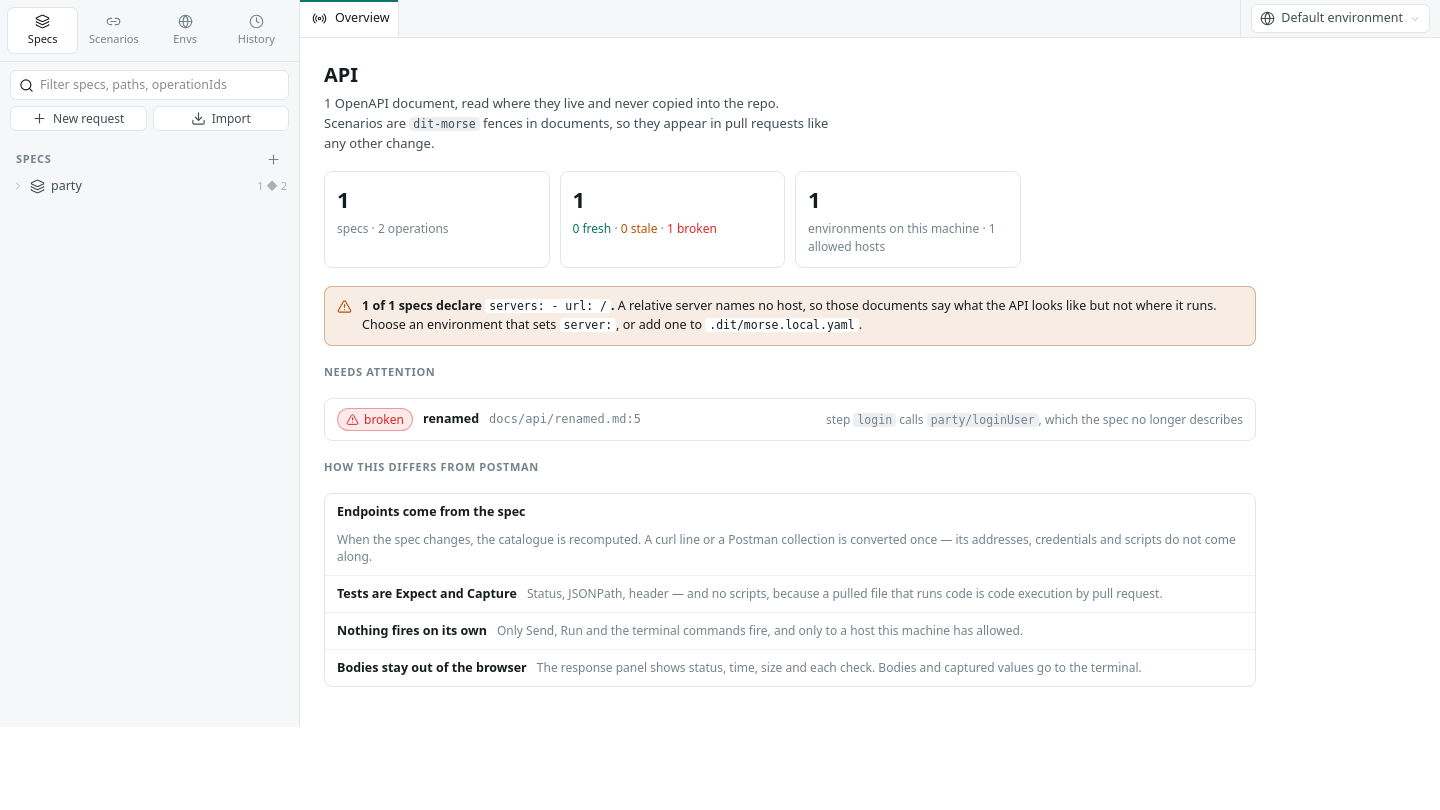
Test: the Morse workbench › opens an operation as a draft pre-filled from the spec
Step 1. Click the button with class "mw-tr" → coordinates (66, 186), box [6, 174, 293, 200]
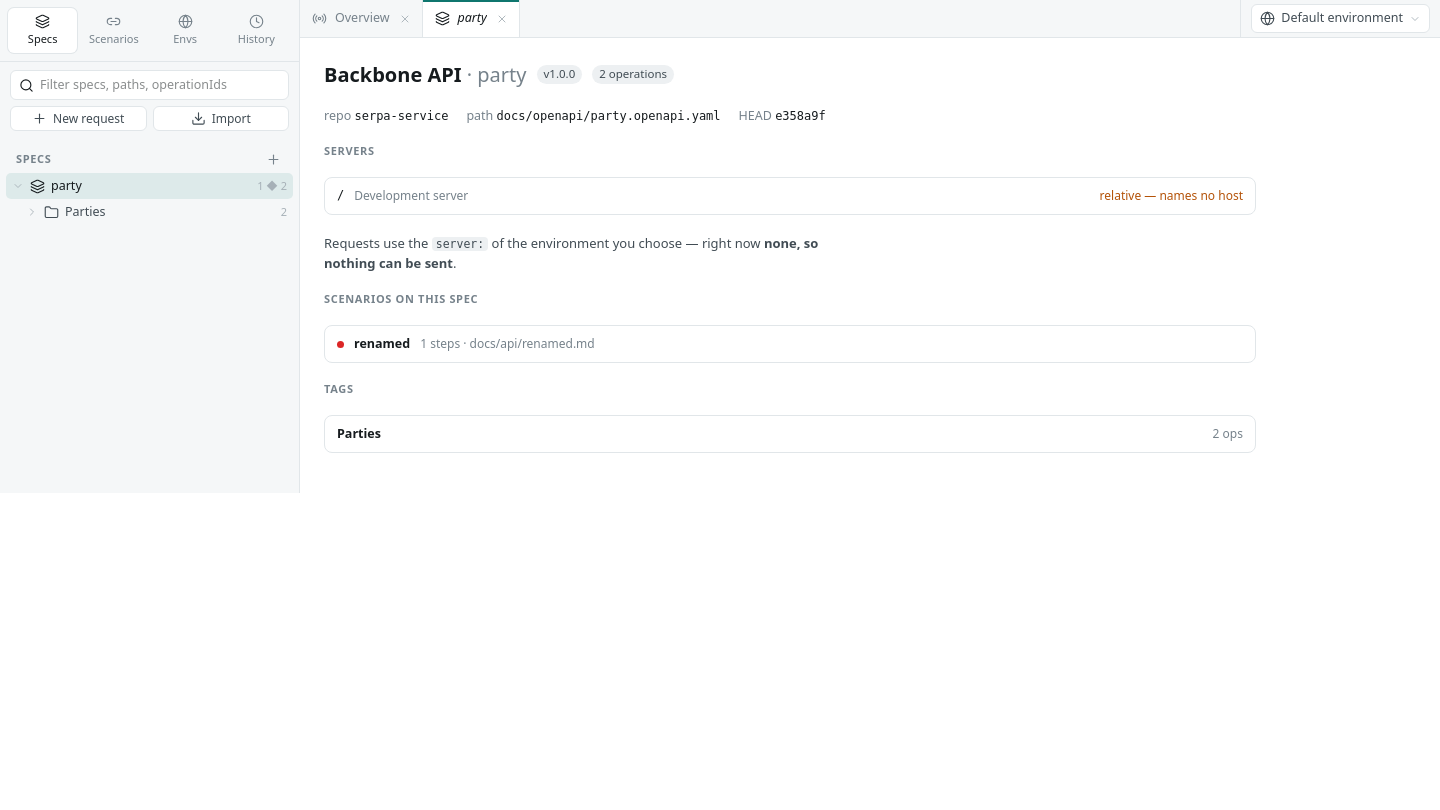
Result: the button with class "mw-tr" showing "Parties 2" is shown
Step 2. Click the button with class "mw-tr" showing "Parties 2" → coordinates (85, 212), box [6, 200, 293, 226]
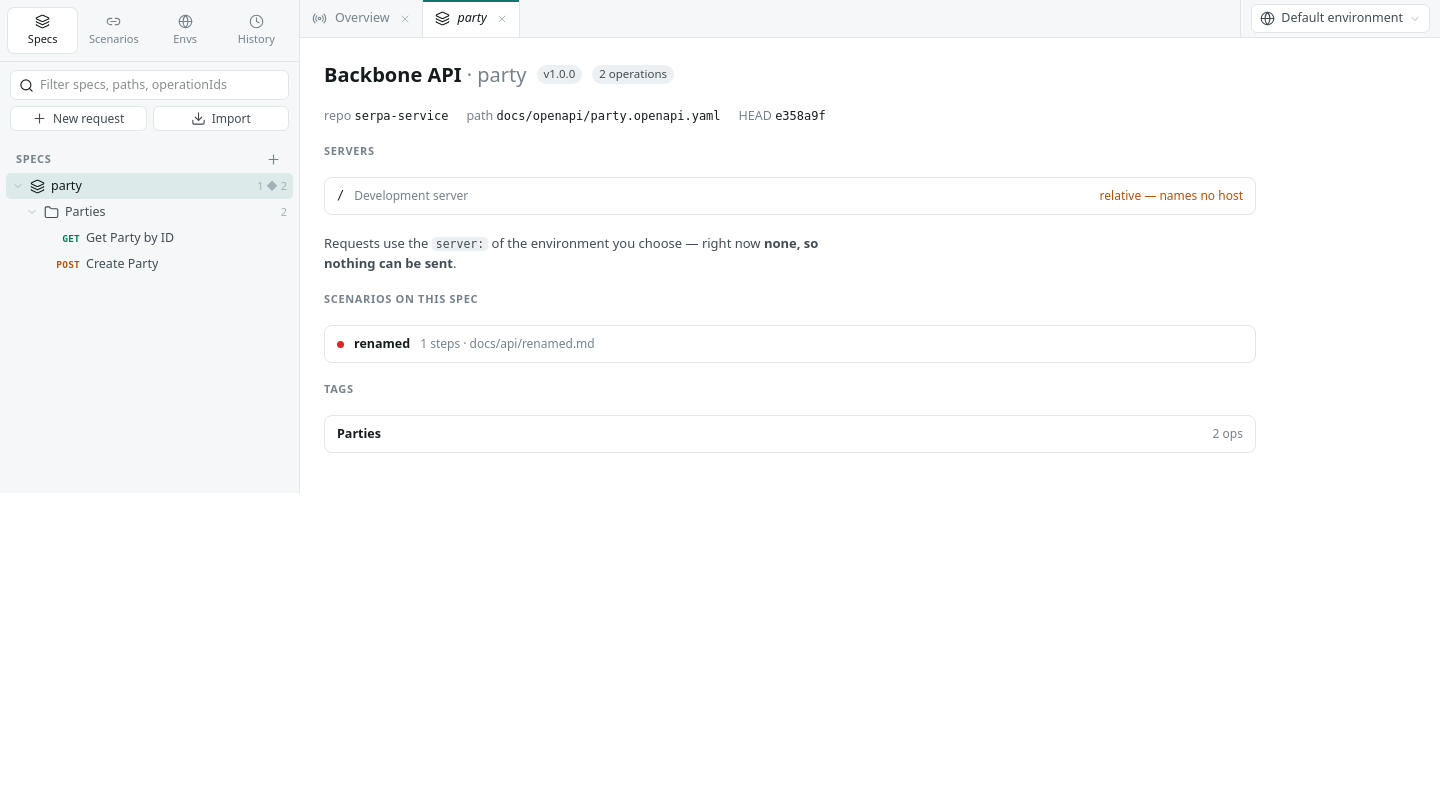
Result: the button with class "mw-tr" showing "POST Create Party" is shown
Step 3. Click the button with class "mw-tr" showing "POST Create Party" → coordinates (150, 264), box [6, 252, 293, 278]
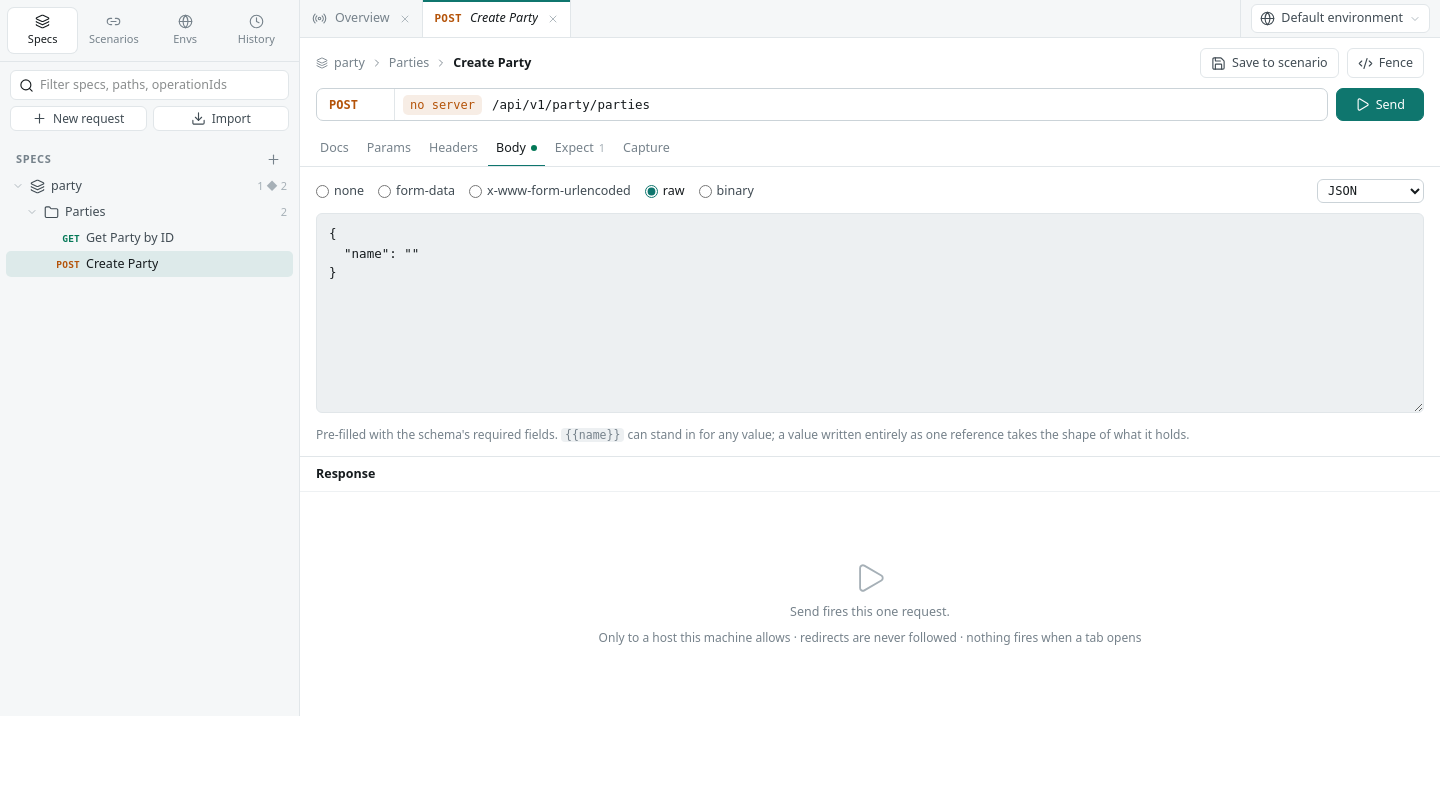
Result: the text with class "base" reads "no server" at [410, 98, 475, 112]
